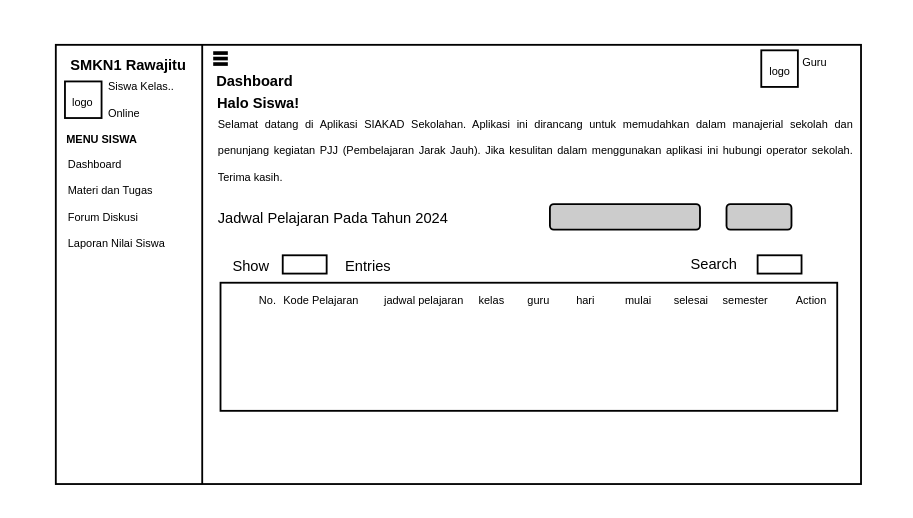
Some shapes in this 913 by 518 pixel diagram are drawn without their labels. Each missing label, with the centre of its shape:
Lihat: the point at 758,216
Pilih Tahun Akademik: the point at 624,216
